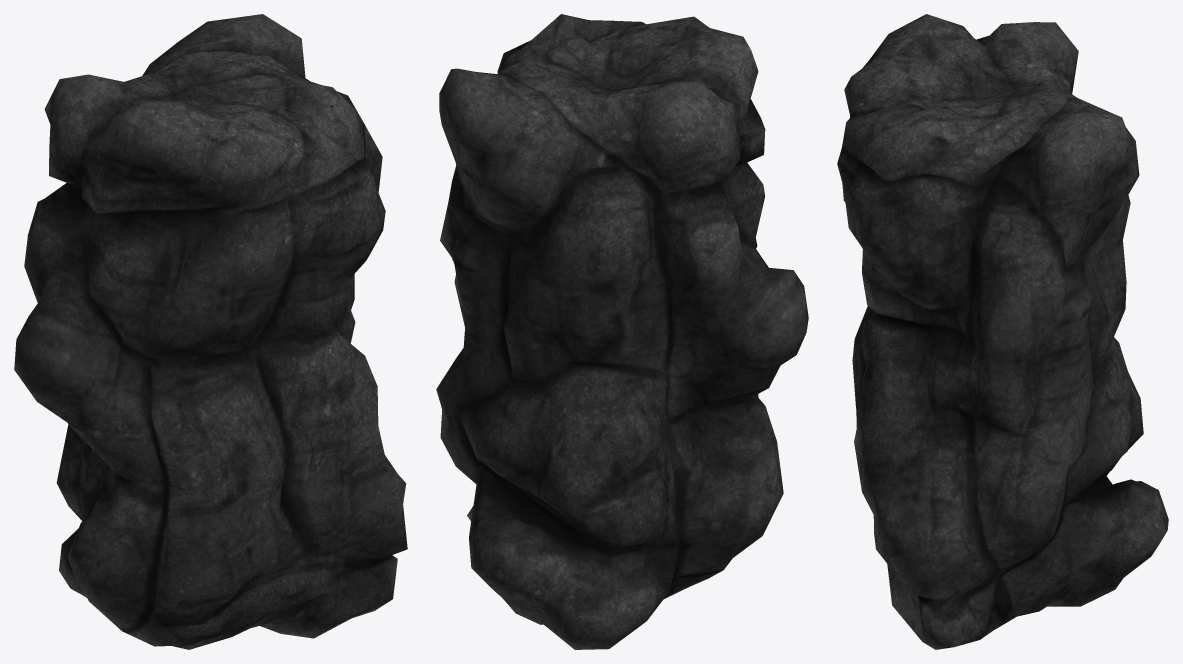
The model's file is rockBig_edit_for_FBX.fbx.
The picture shows the model from 3 angles, left to right: view 1: azimuth 30°, elevation 25°; view 2: azimuth 150°, elevation 25°; view 3: azimuth 270°, elevation 25°; orthographic projection. The views are drawn at different scales.
Parts seen in each view (by area): view 1: rock_big; view 2: rock_big; view 3: rock_big.
Part boxes in pixels (x1,y1,x2,y2): rock_big: (14,14,407,649); rock_big: (436,14,808,649); rock_big: (837,14,1168,649).
Bounding box in the file's own units: 18912 × 28778 × 16067.
